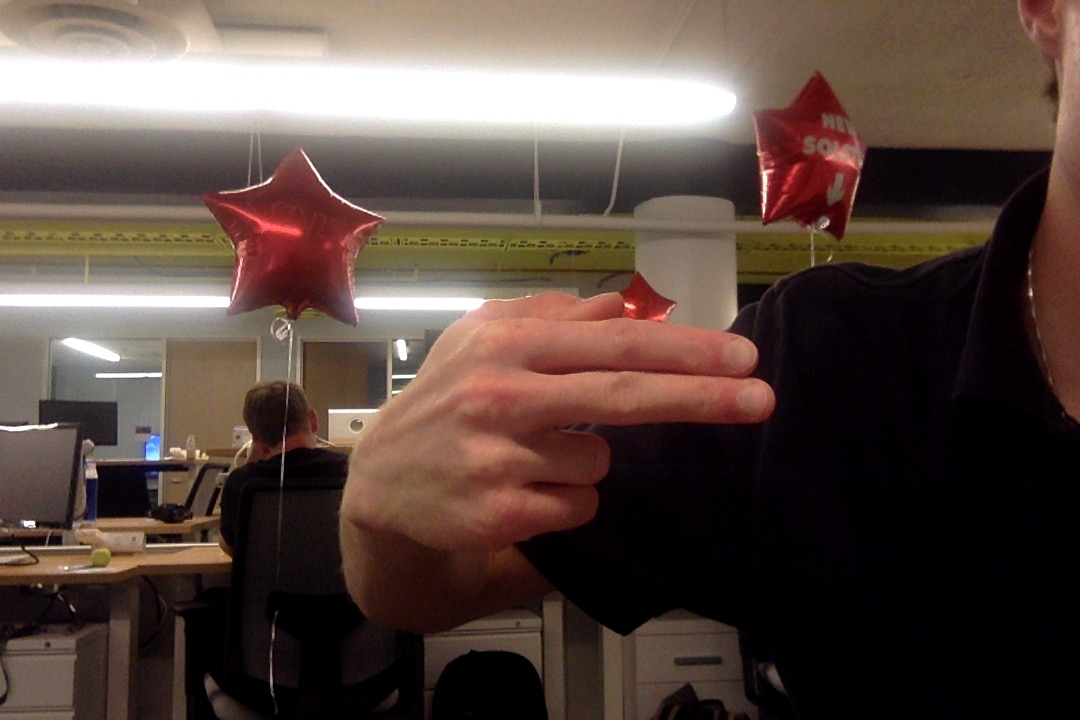h: (334, 284, 785, 556)
